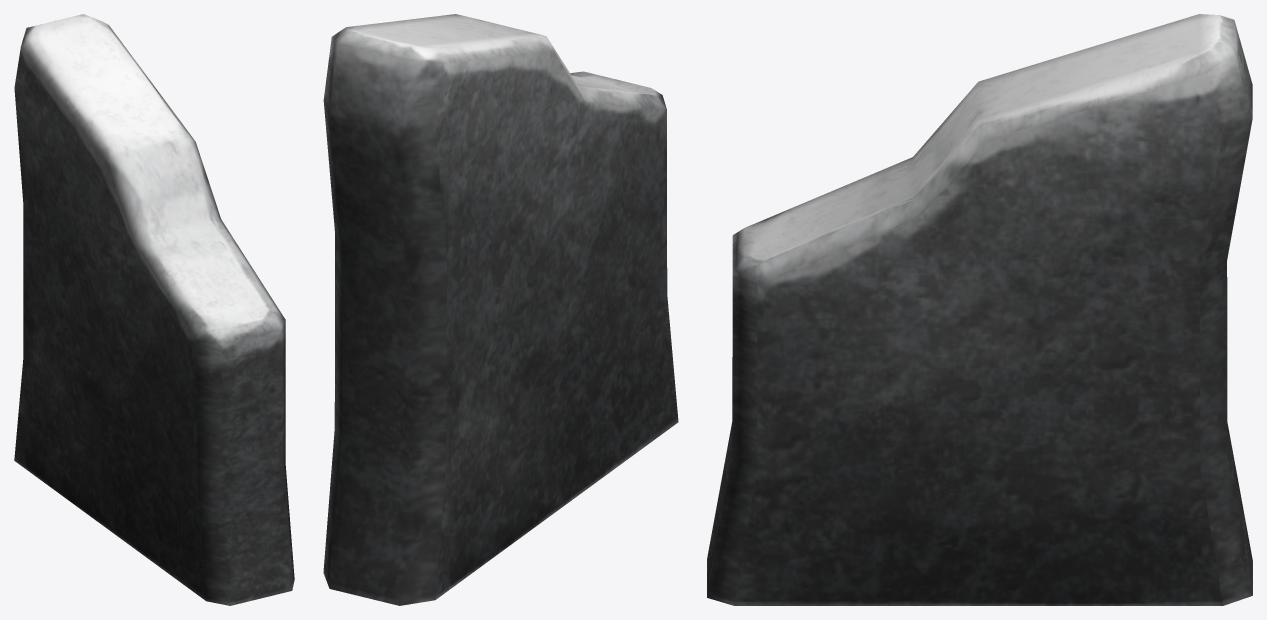
Rendered from GraveStone_2.fbx.
3 views of the same model, side by side, from view 1: azimuth 30°, elevation 25°; view 2: azimuth 150°, elevation 25°; view 3: azimuth 270°, elevation 25° (orthographic). The views are drawn at different scales.
Visible parts, largest first — view 1: polySurface15; view 2: polySurface15; view 3: polySurface15.
Boxes of the visible parts, box(x1,y1,x2,y2) form: polySurface15: box(14, 14, 294, 605); polySurface15: box(323, 14, 678, 605); polySurface15: box(707, 14, 1252, 605).
Size of the model in its own units: 15.84 by 73.84 by 66.58.
